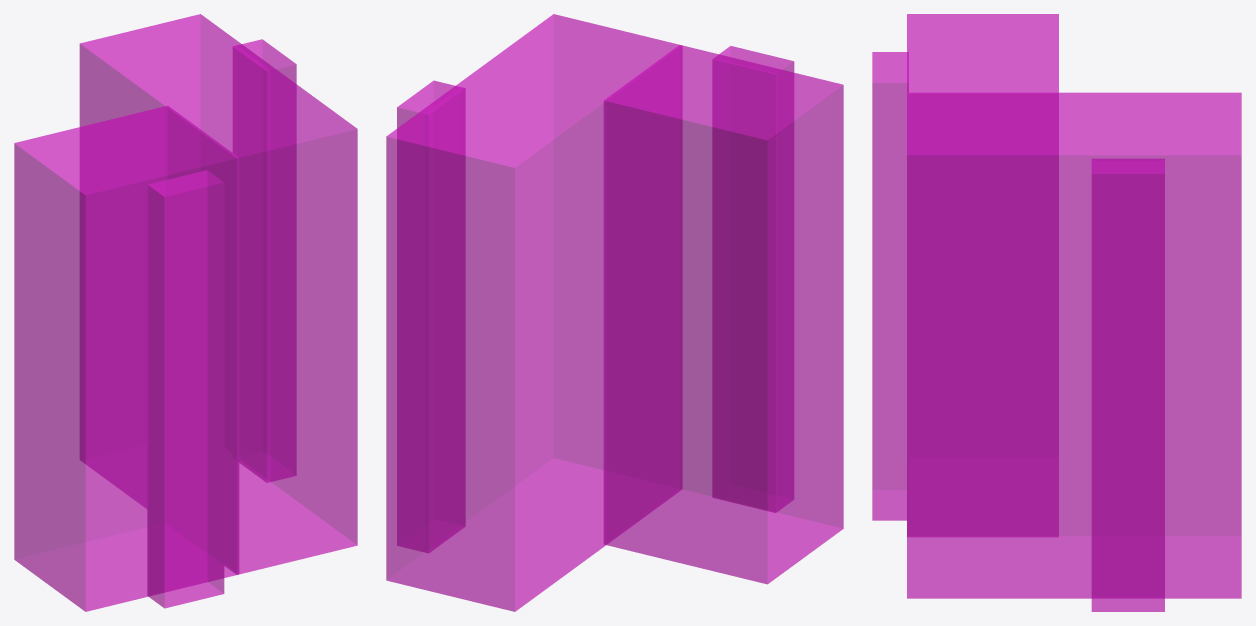
File: SM_Bld_Wall_L_Corner_03_Collision.fbx
The picture shows the model from 3 angles, left to right: view 1: azimuth 30°, elevation 25°; view 2: azimuth 150°, elevation 25°; view 3: azimuth 270°, elevation 25°; orthographic projection. The views are drawn at different scales.
Parts seen in each view (by area): view 1: SM_Bld_Wall_L_Corner_03_Collision; view 2: SM_Bld_Wall_L_Corner_03_Collision; view 3: SM_Bld_Wall_L_Corner_03_Collision.
Boxes of the visible parts, x1,y1,x2,y2 form: SM_Bld_Wall_L_Corner_03_Collision: (14, 14, 357, 611); SM_Bld_Wall_L_Corner_03_Collision: (386, 14, 843, 611); SM_Bld_Wall_L_Corner_03_Collision: (872, 14, 1241, 611).
Size of the model in its own units: 454 by 607 by 458.
